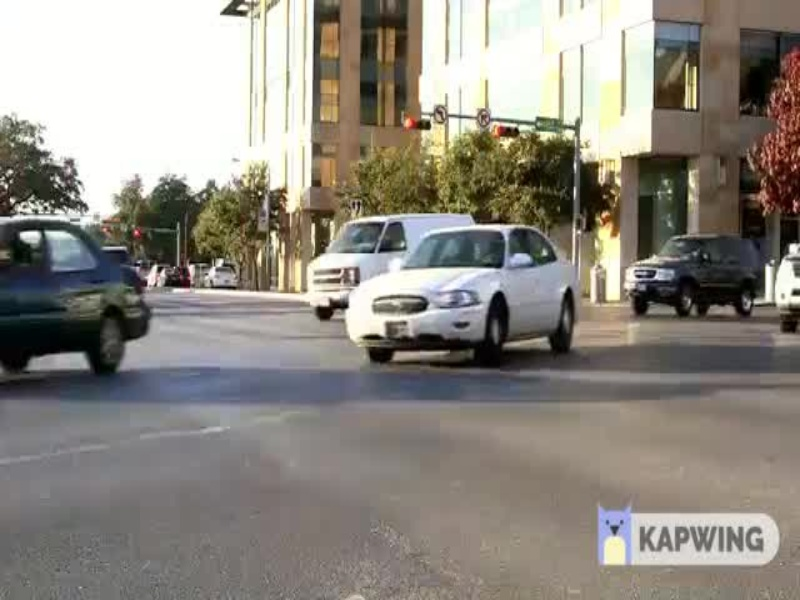car: (315, 224, 590, 364), (1, 221, 162, 391), (611, 225, 768, 325)
